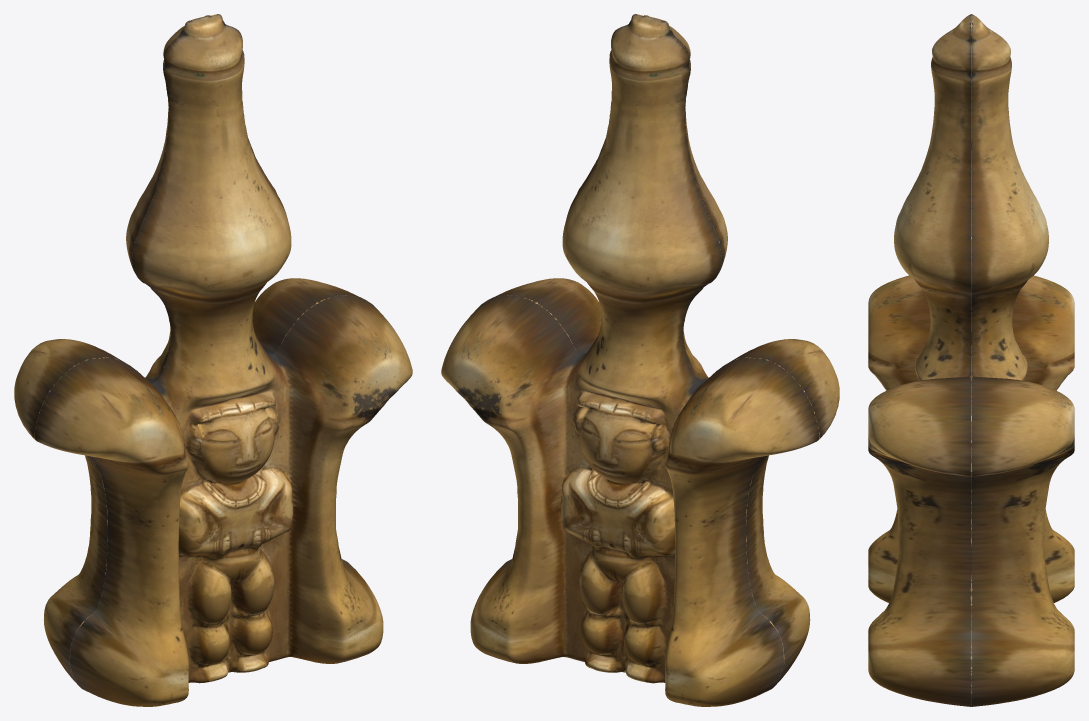
File: poporo_dorado.glb
3 views of the same model, side by side, from view 1: azimuth 30°, elevation 25°; view 2: azimuth 150°, elevation 25°; view 3: azimuth 270°, elevation 25° (orthographic). The views are drawn at different scales.
Visible parts, largest first — view 1: ave_tairona; view 2: ave_tairona; view 3: ave_tairona.
Part boxes in pixels (left/top/right/bottom): ave_tairona: left=14, top=14, right=412, bottom=706; ave_tairona: left=441, top=14, right=839, bottom=706; ave_tairona: left=868, top=14, right=1074, bottom=706.
Size of the model in its own units: 7.18 by 12.49 by 3.72.
Materials: 1 (1 with a texture image).
